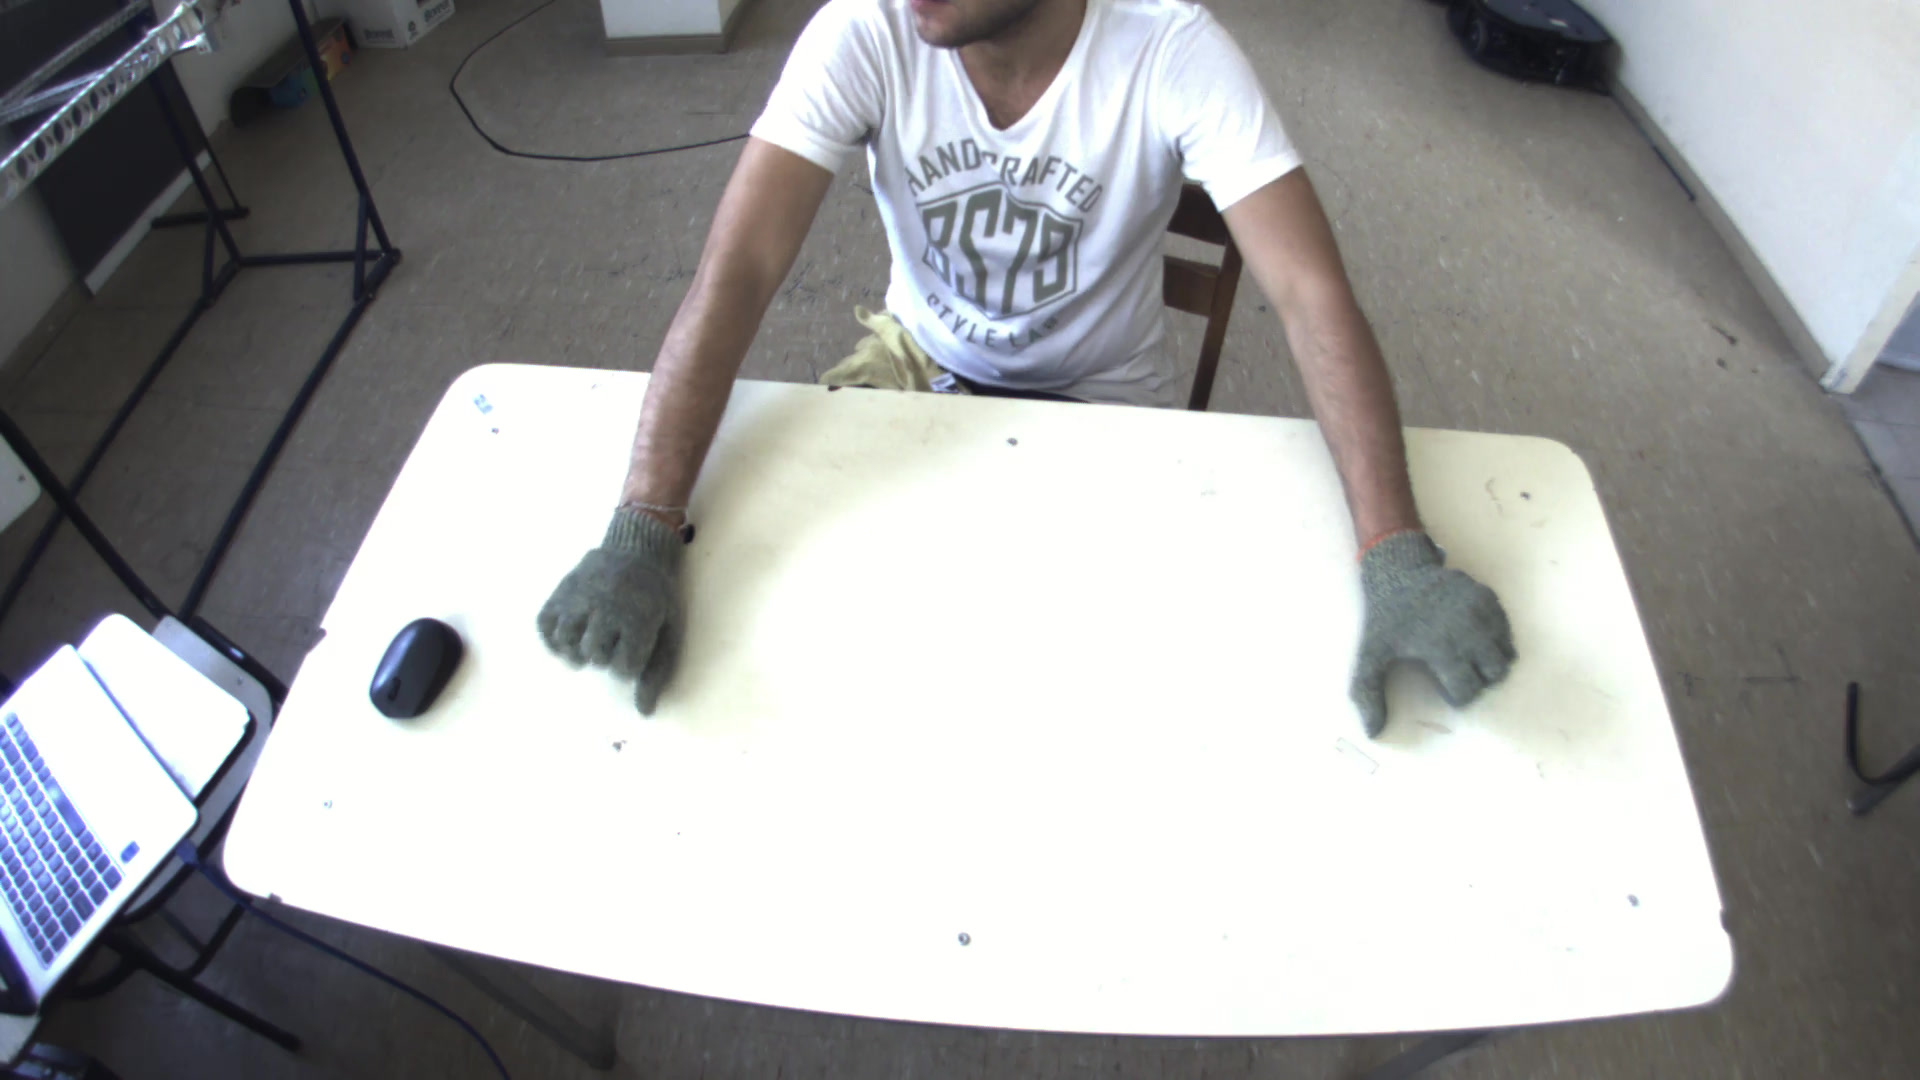hand: (1342, 527, 1528, 746), (524, 498, 698, 695)
